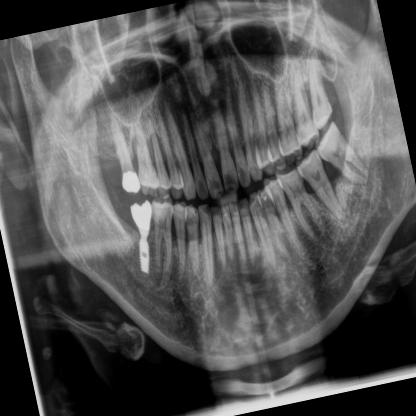Bicon: (131, 226, 157, 276)
